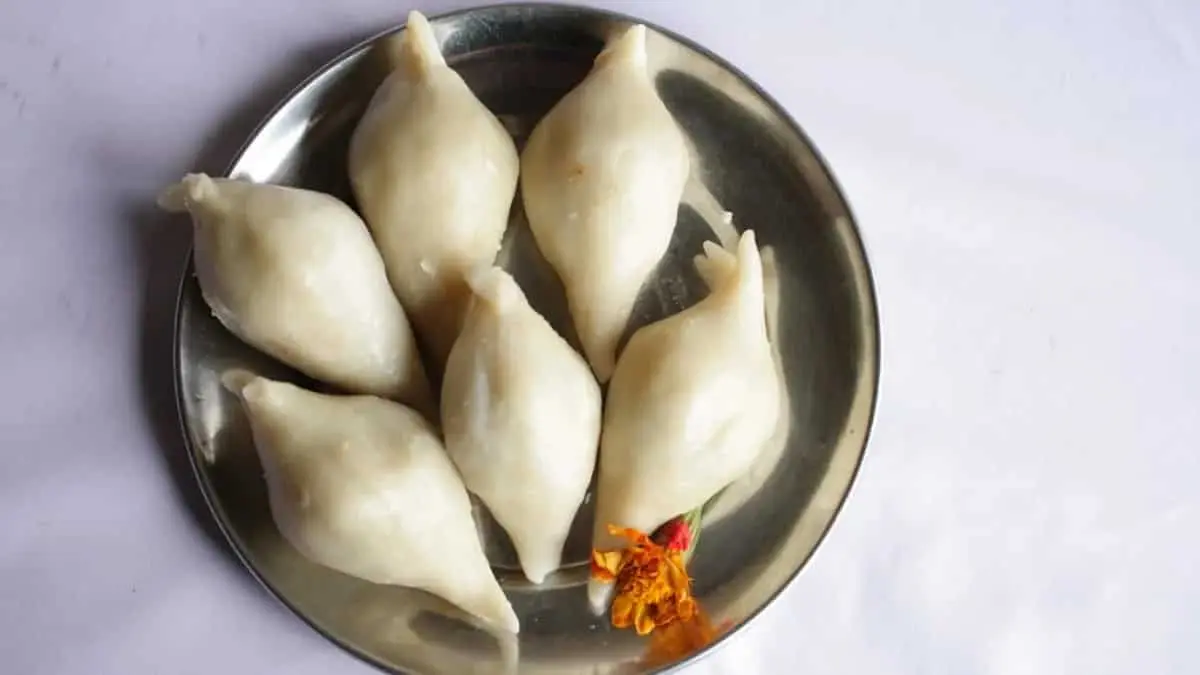yomari: (592, 230, 780, 598), (198, 367, 440, 555), (555, 12, 660, 342), (148, 148, 333, 322), (370, 0, 457, 292), (465, 250, 535, 508)
